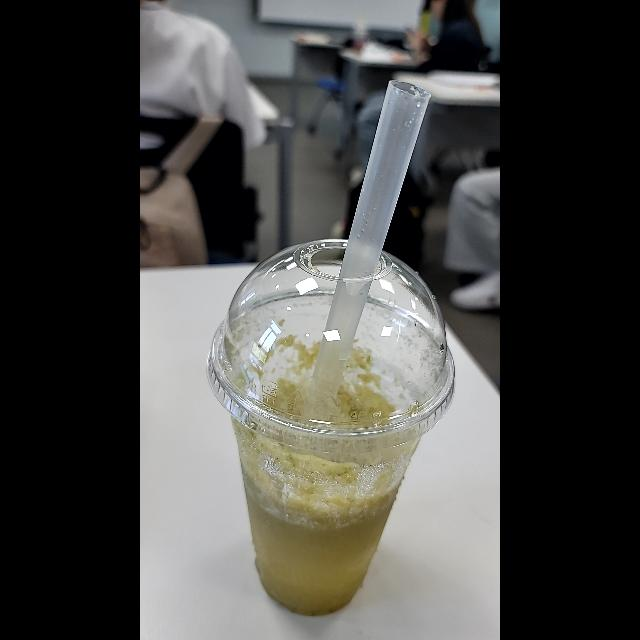plastic_cup: (206, 234, 454, 614)
plastic_cup_lid: (206, 238, 454, 452)
straw: (301, 80, 439, 400)
